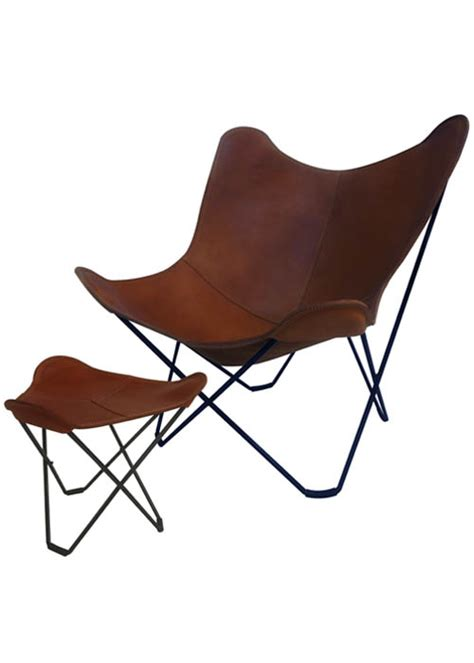cuero: (75, 113, 474, 350)
